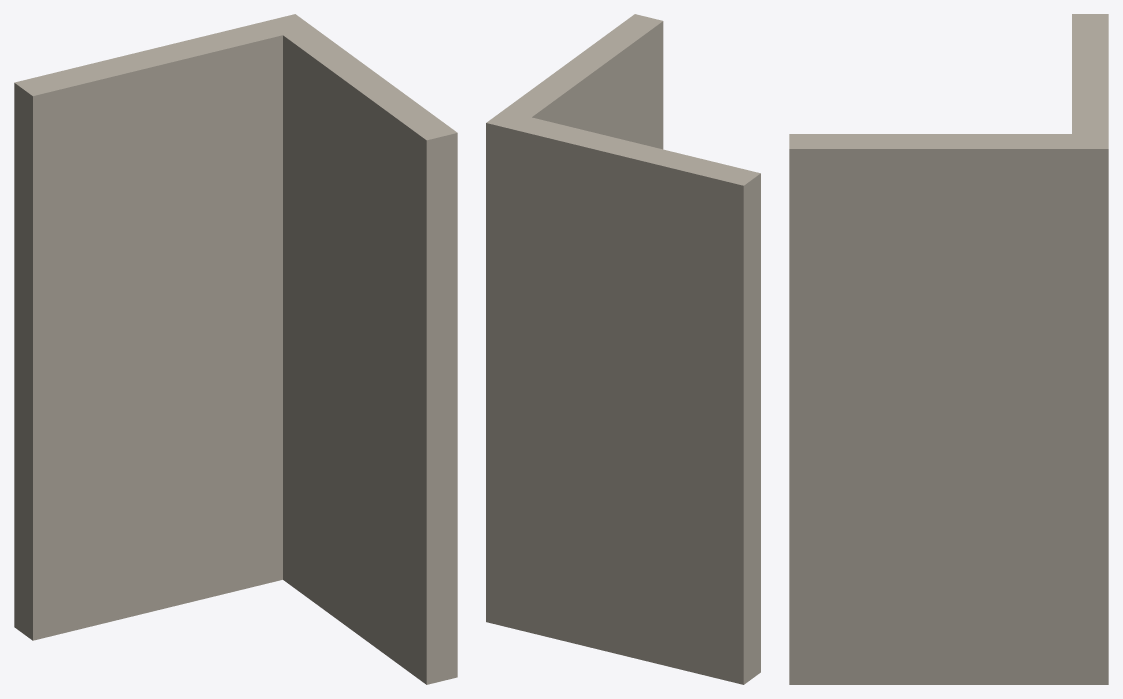
File: Wall_21.fbx
3 renders of one model, left to right at view 1: azimuth 30°, elevation 25°; view 2: azimuth 150°, elevation 25°; view 3: azimuth 270°, elevation 25°, orthographic. The views are drawn at different scales.
Parts seen in each view (by area): view 1: Wall_21; view 2: Wall_21; view 3: Wall_21.
Part boxes in pixels (x1,y1,x2,y2): Wall_21: [14, 14, 457, 684]; Wall_21: [486, 14, 760, 684]; Wall_21: [789, 14, 1108, 684].
Bounding box in the file's own units: 140 × 259 × 140.
